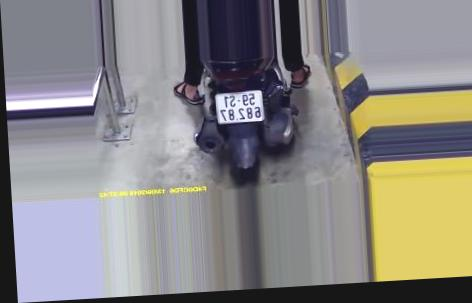License_Plate: (211, 85, 270, 129)
